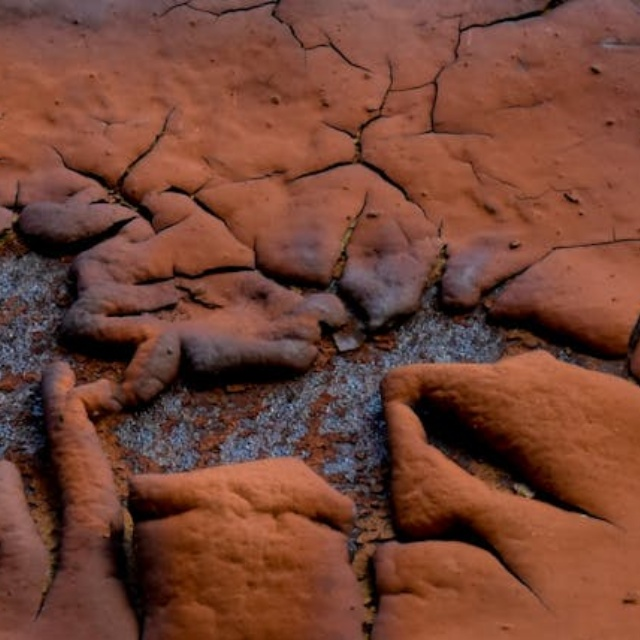深大裂缝: (0, 148, 640, 619)
细微裂纹: (82, 0, 422, 96)
